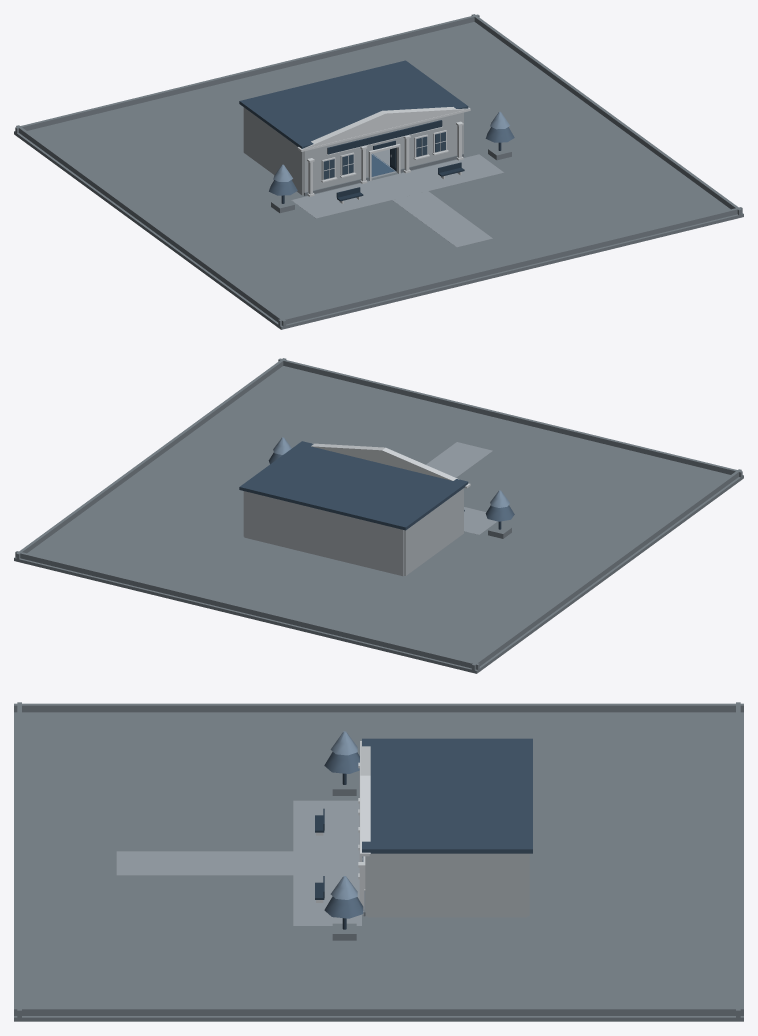
The model's file is mundo_completo.glb.
3 views of the same model, one above another, from view 1: azimuth 30°, elevation 25°; view 2: azimuth 150°, elevation 25°; view 3: azimuth 270°, elevation 25° (orthographic). The views are drawn at different scales.
Parts seen in each view (by area): view 1: Terreno, Cobertura, Patio, BordaFrente, BordaFundo, ParedeEsquerda, Caminho, BordaEsquerda, BordaDireita, Frontao, FrenteEsquerda, FrenteDireita (+1 smaller); view 2: Terreno, Cobertura, ParedeFundo, BordaFundo, BordaFrente, ParedeEsquerda, BordaEsquerda, BordaDireita, Frontao, Caminho, Patio; view 3: Terreno, Cobertura, ParedeDireita, BordaEsquerda, Patio, BordaDireita, Caminho, BordaFrente, BordaFundo, Frontao, _MeshInstance3D_81, Copa.
Boxes of the visible parts, bbox=[...] form: Terreno: bbox=[14, 22, 743, 329]; Cobertura: bbox=[239, 60, 468, 148]; Patio: bbox=[291, 154, 503, 218]; BordaFrente: bbox=[278, 207, 742, 325]; BordaFundo: bbox=[15, 14, 479, 133]; ParedeEsquerda: bbox=[243, 107, 303, 195]; Caminho: bbox=[392, 191, 492, 247]; BordaEsquerda: bbox=[16, 125, 286, 326]; BordaDireita: bbox=[471, 14, 741, 214]; Frontao: bbox=[298, 107, 469, 149]; FrenteEsquerda: bbox=[303, 135, 369, 195]; FrenteDireita: bbox=[398, 112, 463, 168]; Terreno: bbox=[14, 366, 743, 673]; Cobertura: bbox=[239, 441, 468, 530]; ParedeFundo: bbox=[244, 491, 404, 576]; BordaFundo: bbox=[15, 551, 479, 669]; BordaFrente: bbox=[278, 358, 742, 477]; ParedeEsquerda: bbox=[404, 488, 463, 575]; BordaEsquerda: bbox=[471, 469, 741, 670]; BordaDireita: bbox=[16, 358, 286, 558]; Frontao: bbox=[311, 443, 469, 486]; Caminho: bbox=[426, 442, 492, 477]; Patio: bbox=[464, 507, 497, 534]; Terreno: bbox=[14, 712, 743, 1021]; Cobertura: bbox=[362, 738, 532, 853]; ParedeDireita: bbox=[367, 853, 527, 917]; BordaEsquerda: bbox=[14, 703, 743, 712]; Patio: bbox=[293, 800, 361, 925]; BordaDireita: bbox=[14, 1007, 743, 1015]; Caminho: bbox=[116, 851, 293, 875]; BordaFrente: bbox=[17, 702, 21, 1017]; BordaFundo: bbox=[736, 702, 740, 1017]; Frontao: bbox=[360, 741, 370, 853]; _MeshInstance3D_81: bbox=[324, 896, 363, 918]; Copa: bbox=[324, 752, 359, 773].
Bounding box in the file's own units: 64 × 8.87 × 64.
